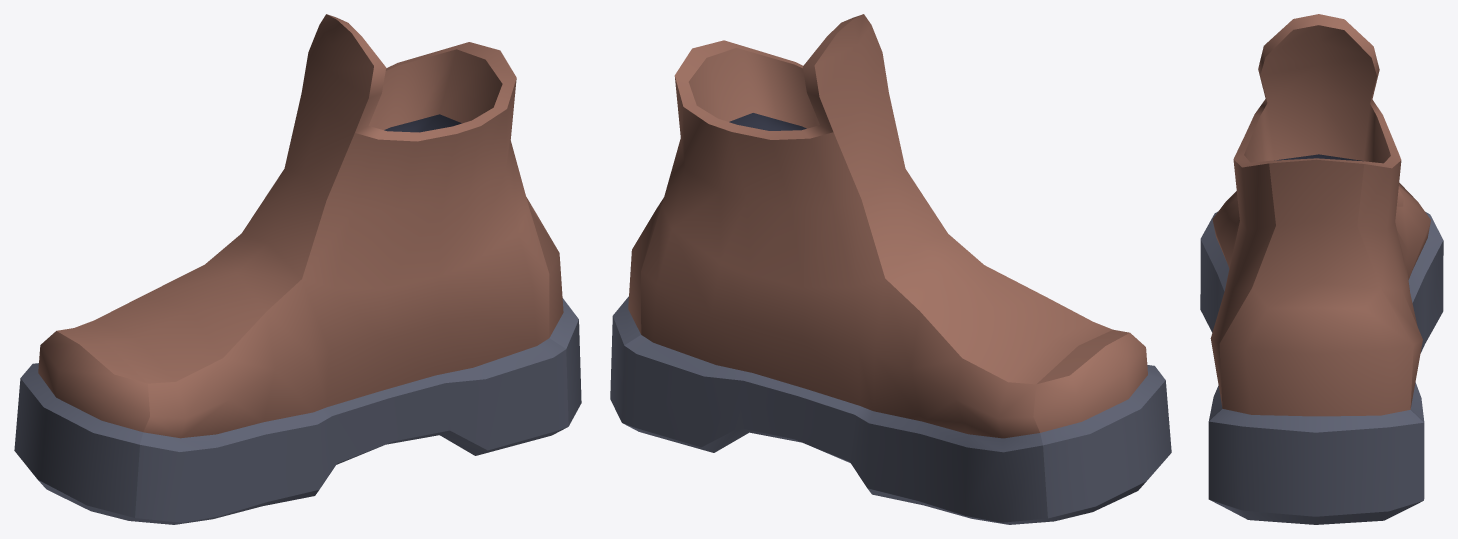
The model's file is LI_Boot_Mesh_01.fbx.
3 renders of one model, left to right at view 1: azimuth 30°, elevation 25°; view 2: azimuth 150°, elevation 25°; view 3: azimuth 270°, elevation 25°, orthographic.
Parts seen in each view (by area): view 1: LI_Boot_01; view 2: LI_Boot_01; view 3: LI_Boot_01.
Part boxes in pixels (<box>): LI_Boot_01: <box>14,14,581,524</box>; LI_Boot_01: <box>610,14,1171,524</box>; LI_Boot_01: <box>1200,14,1443,524</box>.
Size of the model in its own units: 0.5857 by 0.4722 by 0.2428.
